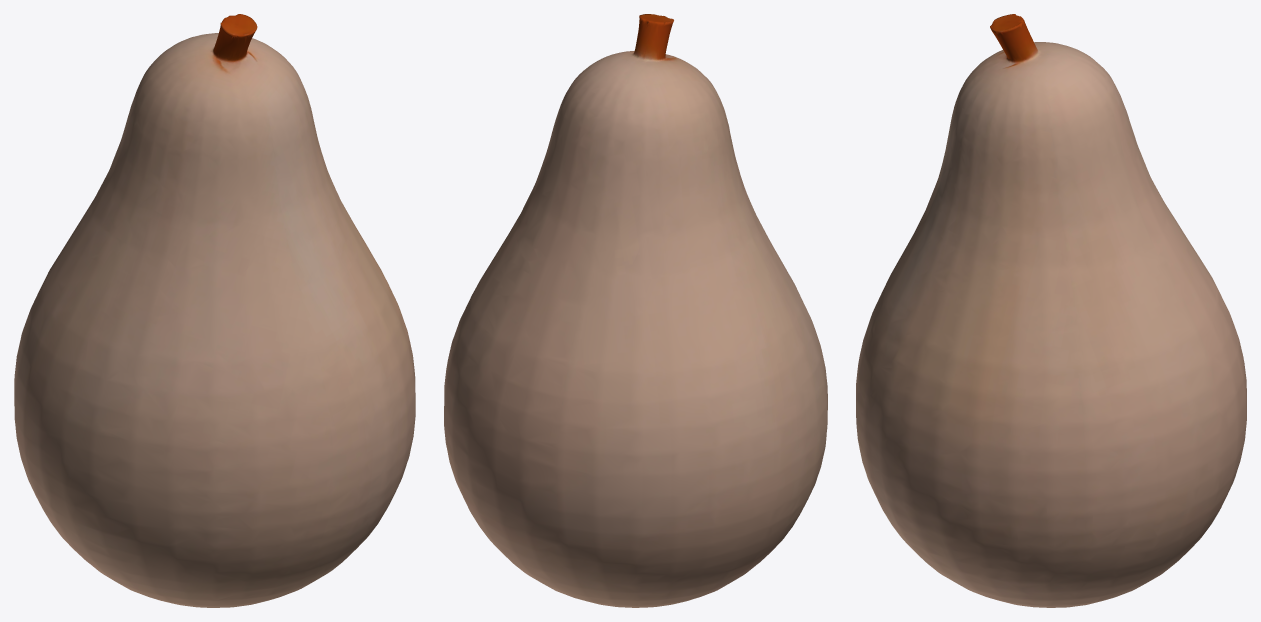
Rendered from cat_bladder.glb.
3 views of the same model, side by side, from view 1: azimuth 30°, elevation 25°; view 2: azimuth 150°, elevation 25°; view 3: azimuth 270°, elevation 25° (orthographic). The views are drawn at different scales.
Visible parts, largest first — view 1: model; view 2: model; view 3: model.
Boxes of the visible parts, box(x1,y1,x2,y2) form: model: box(14, 14, 415, 607); model: box(444, 14, 827, 607); model: box(856, 14, 1246, 607).
Bounding box in the file's own units: 1.19 × 1.9 × 1.18.
1 material, 1 textured.
